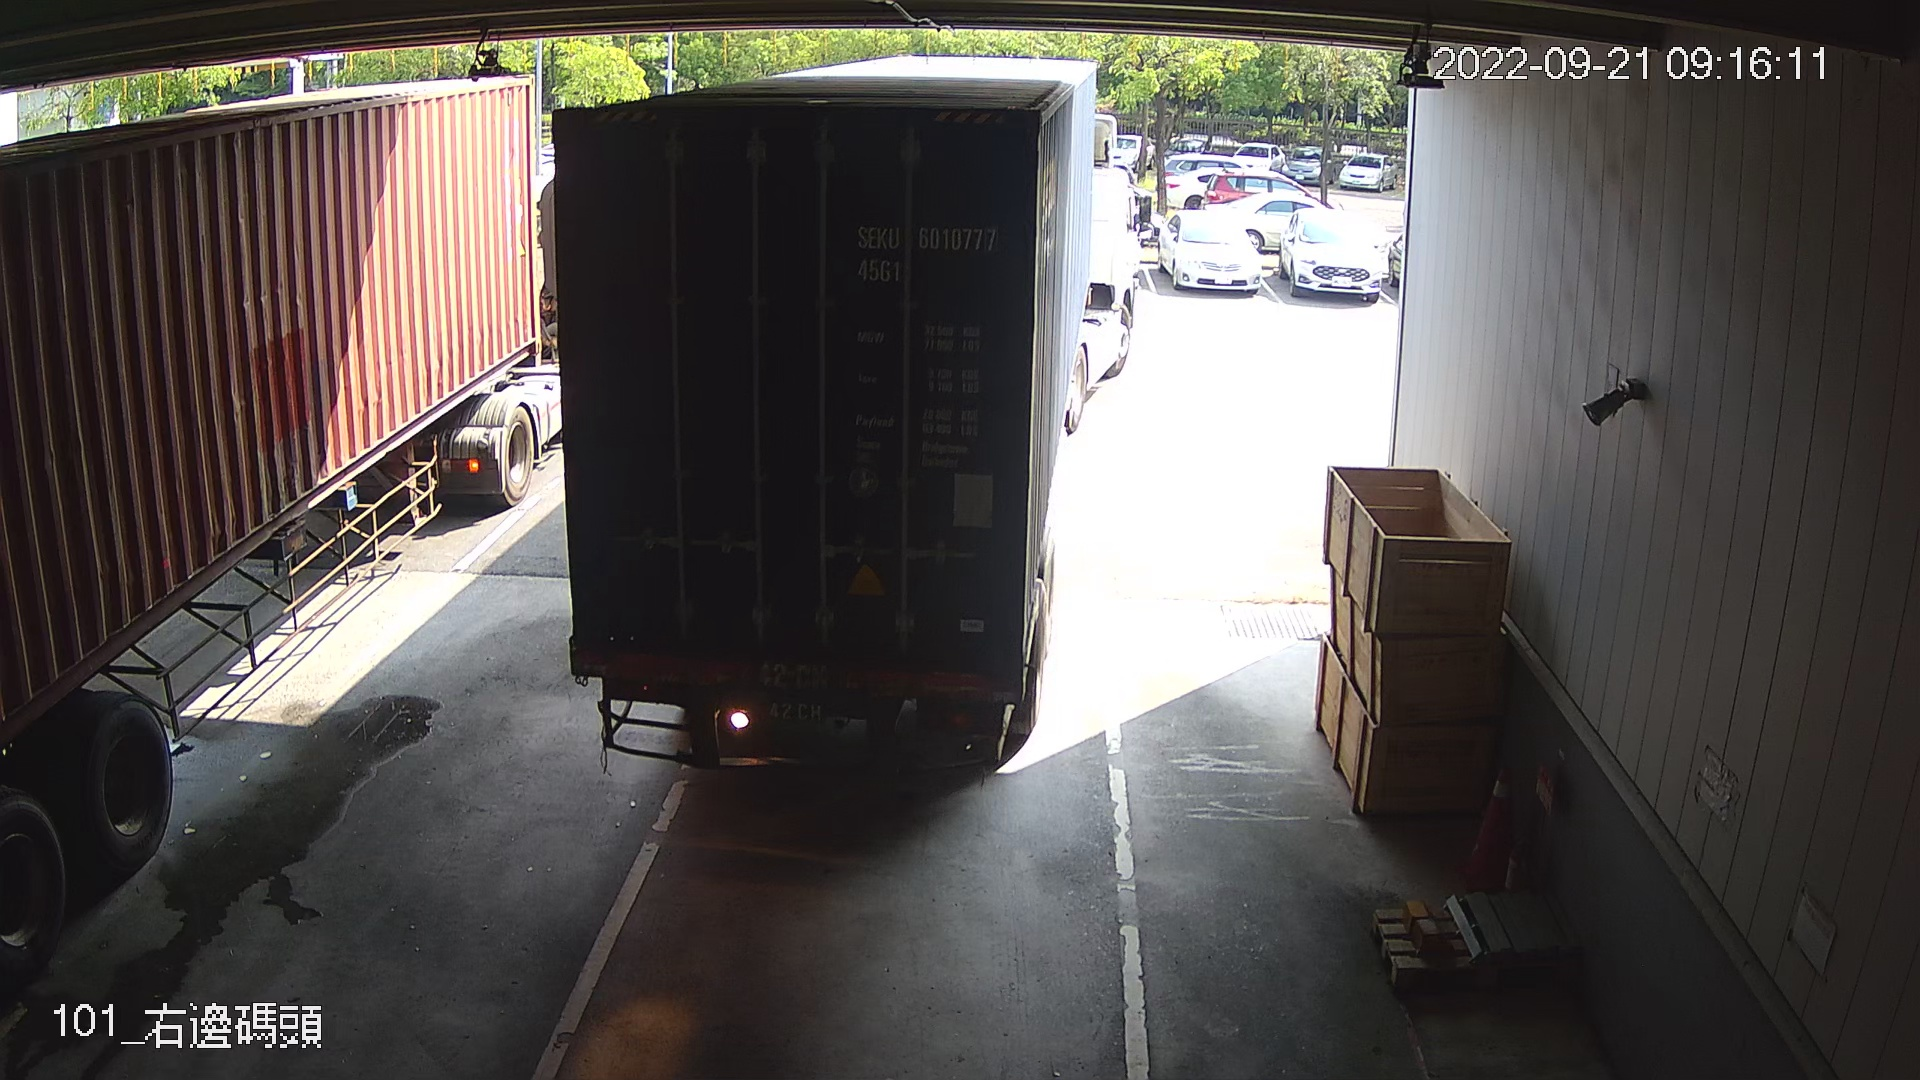container: (847, 214, 1009, 291)
